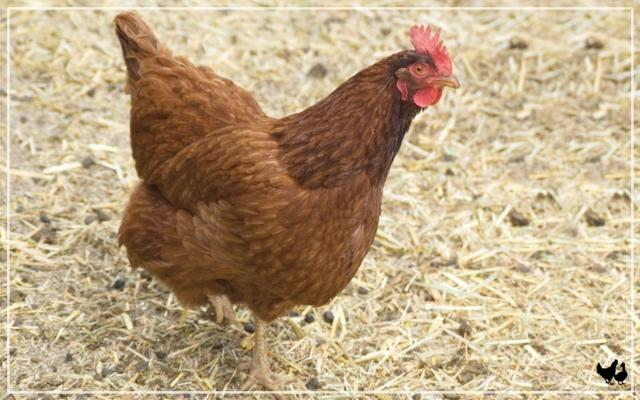Chicken: (114, 8, 461, 400)
